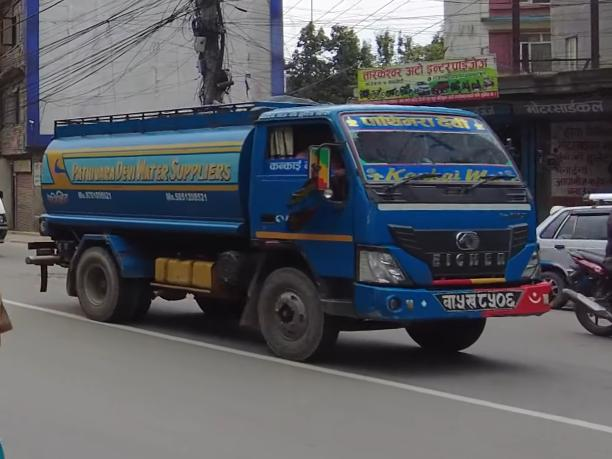bike: (564, 245, 612, 338)
car: (537, 195, 612, 274)
mini_truck: (26, 93, 561, 369)
